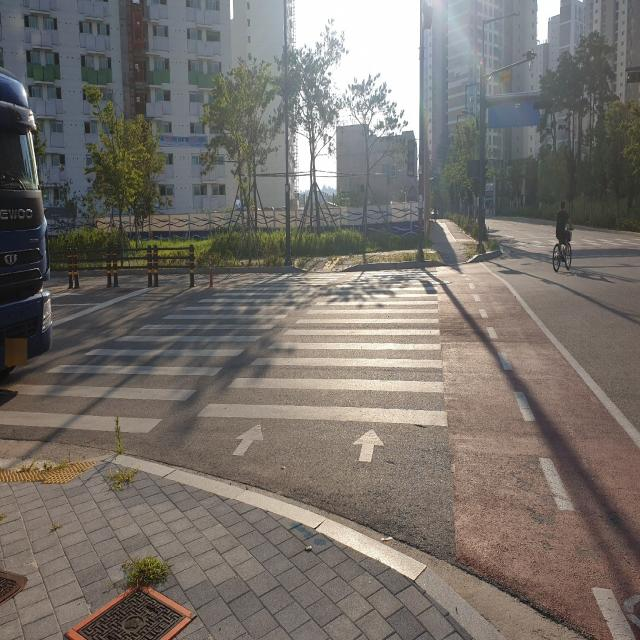횡단보도: (0, 266, 451, 465)
